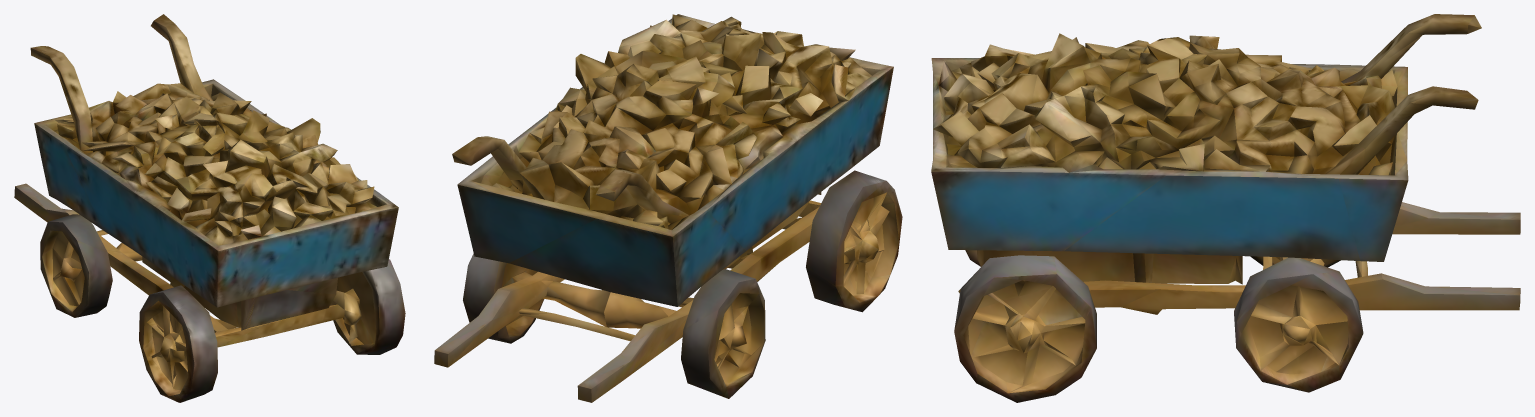
Rendered from m2OreCart.glb.
3 views of the same model, side by side, from view 1: azimuth 30°, elevation 25°; view 2: azimuth 150°, elevation 25°; view 3: azimuth 270°, elevation 25° (orthographic). The views are drawn at different scales.
Parts seen in each view (by area): view 1: model; view 2: model; view 3: model.
Part boxes in pixels (<box>): model: <box>14,14,405,402</box>; model: <box>434,14,902,402</box>; model: <box>931,14,1520,402</box>.
Bounding box in the file's own units: 1.07 × 1.02 × 1.89.
1 material, 1 textured.
